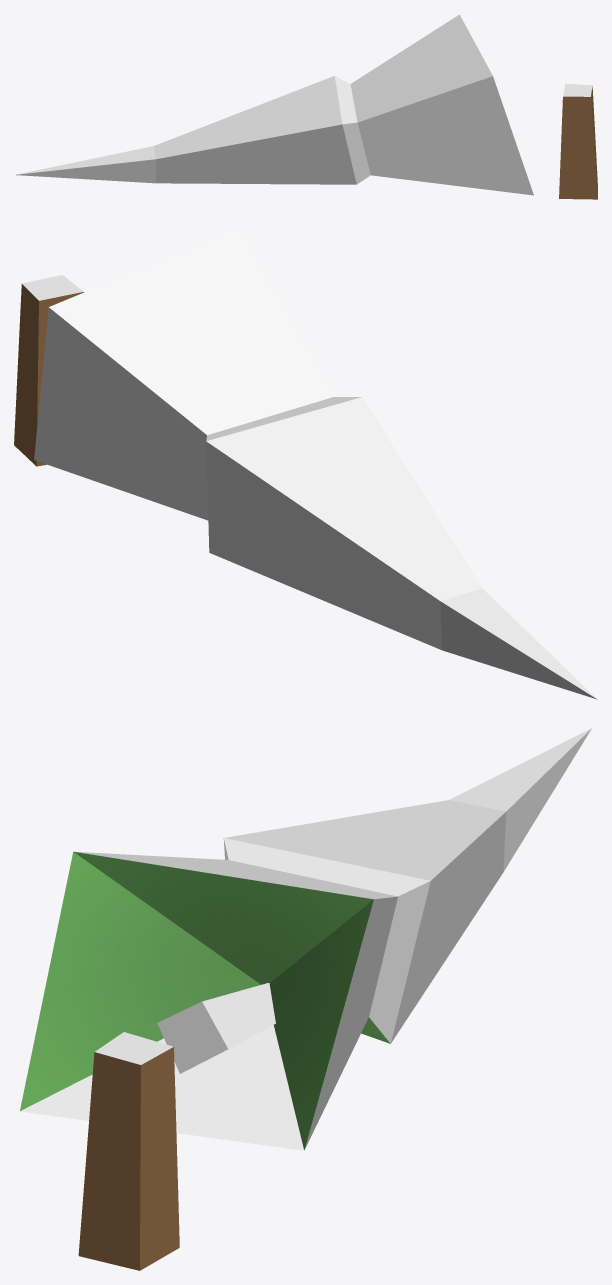
The model's file is Fir_Tree_crk_s_Snow_03.fbx.
The picture shows the model from 3 angles, top to bottom: view 1: azimuth 30°, elevation 25°; view 2: azimuth 150°, elevation 25°; view 3: azimuth 270°, elevation 25°; orthographic projection. The views are drawn at different scales.
Parts seen in each view (by area): view 1: Fir_Tree_crk_s_Snow_03; view 2: Fir_Tree_crk_s_Snow_03; view 3: Fir_Tree_crk_s_Snow_03.
Part boxes in pixels (left/top/right/bottom): Fir_Tree_crk_s_Snow_03: left=15, top=14, right=597, bottom=199; Fir_Tree_crk_s_Snow_03: left=14, top=228, right=597, bottom=699; Fir_Tree_crk_s_Snow_03: left=20, top=728, right=591, bottom=1270.
Bounding box in the file's own units: 140 × 42.78 × 73.81.
